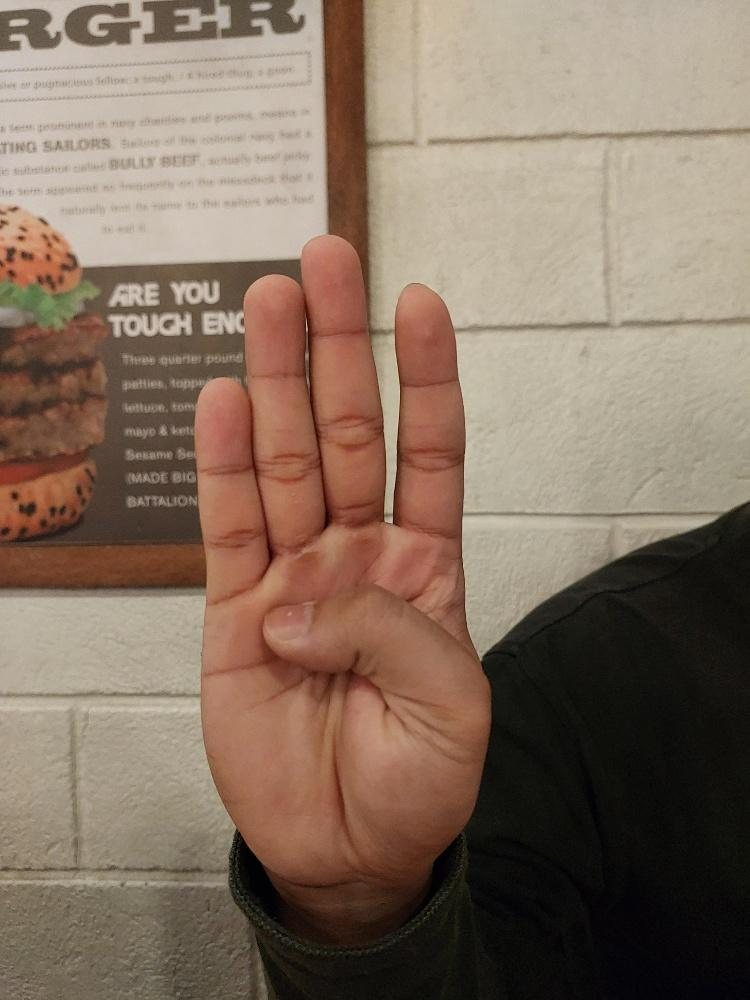b: (190, 230, 493, 883)
